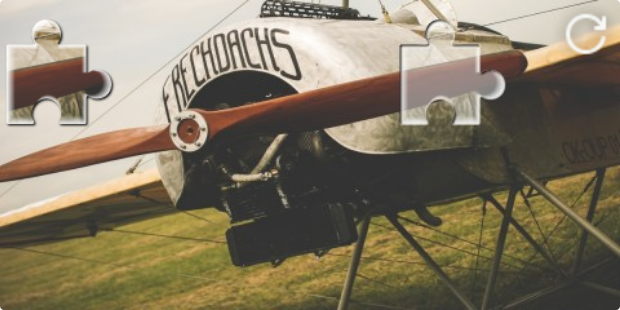target: (399, 19, 505, 125)
